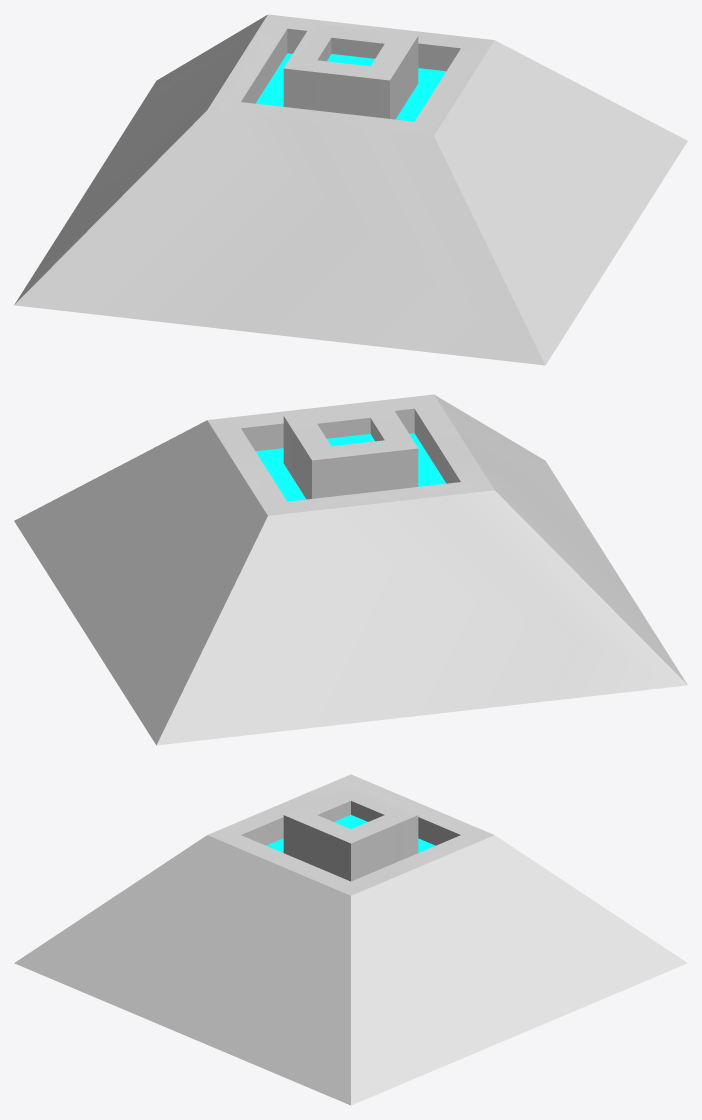
The model's file is scifiPickupFlagBaseA.glb.
3 views of the same model, one above another, from view 1: azimuth 30°, elevation 25°; view 2: azimuth 150°, elevation 25°; view 3: azimuth 270°, elevation 25° (orthographic). The views are drawn at different scales.
Parts seen in each view (by area): view 1: scifiFlagBaseA; view 2: scifiFlagBaseA; view 3: scifiFlagBaseA.
Part boxes in pixels (box(x1,y1,x2,y2)): scifiFlagBaseA: box(14, 14, 687, 365); scifiFlagBaseA: box(14, 394, 687, 745); scifiFlagBaseA: box(14, 774, 687, 1105).
Size of what is drawn, in the model's own units: 0.5791 by 0.1405 by 0.5791.
2 materials, 1 textured.
